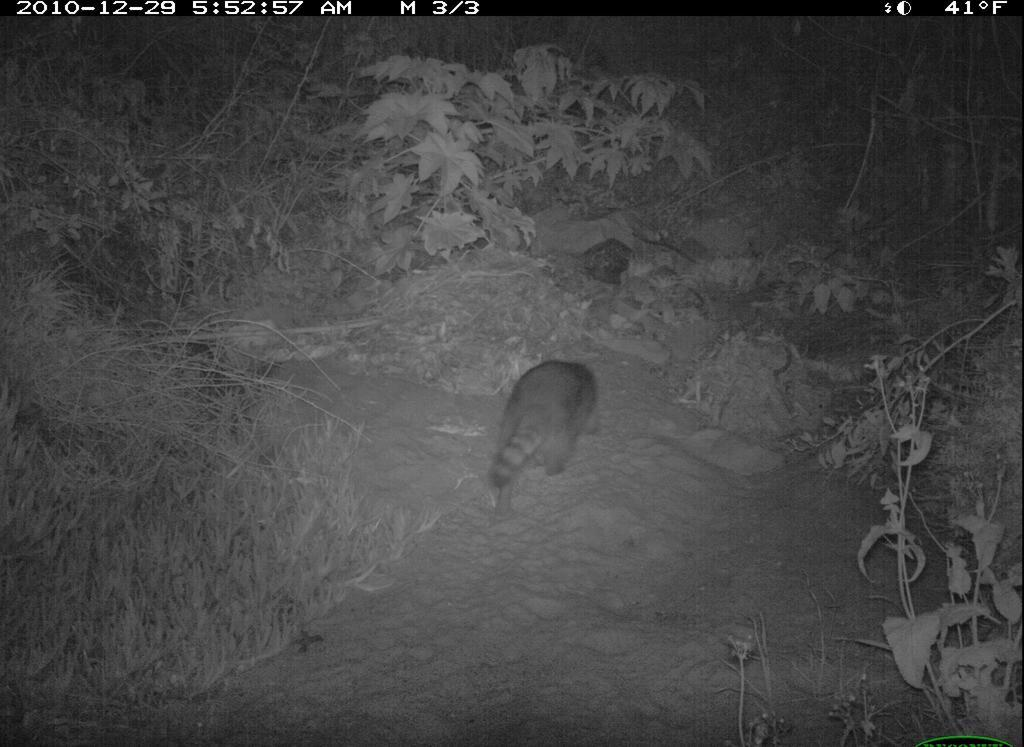raccoon: (481, 351, 610, 509)
